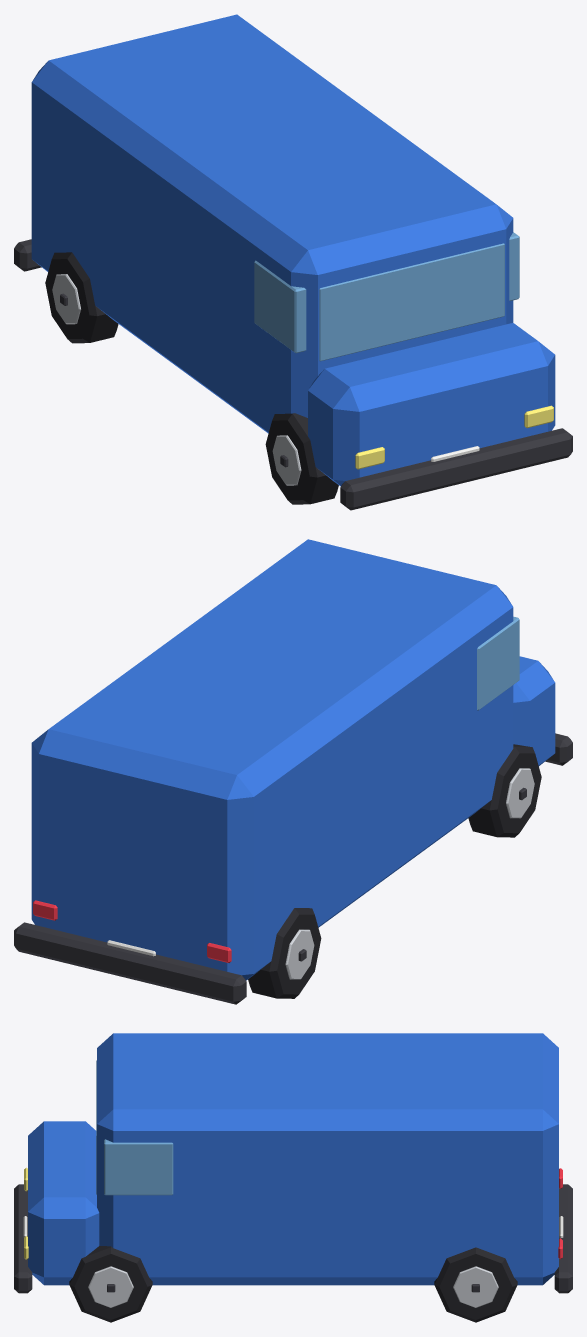
The model's file is Van.fbx.
3 renders of one model, top to bottom at view 1: azimuth 30°, elevation 25°; view 2: azimuth 150°, elevation 25°; view 3: azimuth 270°, elevation 25°, orthographic. The views are drawn at different scales.
Parts seen in each view (by area): view 1: Van, Van_WheelFR, Van_WheelBR; view 2: Van, Van_WheelFR, Van_WheelBR; view 3: Van, Van_WheelFL, Van_WheelBL.
Part boxes in pixels (x1,y1,x2,y2): Van: (14, 14, 572, 510); Van_WheelFR: (265, 413, 338, 504); Van_WheelBR: (45, 252, 118, 343); Van: (14, 539, 572, 1004); Van_WheelFR: (468, 744, 541, 837); Van_WheelBR: (248, 908, 321, 998); Van: (14, 1033, 572, 1293); Van_WheelFL: (69, 1245, 152, 1322); Van_WheelBL: (434, 1247, 517, 1322).
Size of the model in its own units: 5.02 by 4.93 by 12.1.
Materials: 1 (1 with a texture image).
